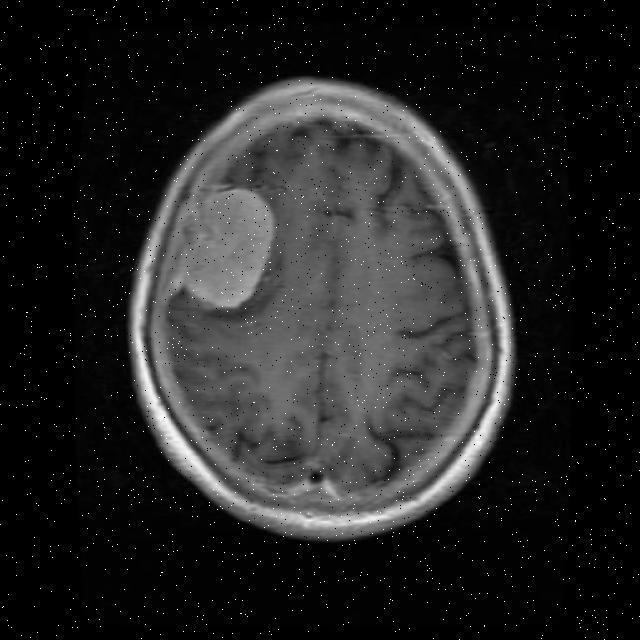Meningioma: (171, 183, 274, 308)
